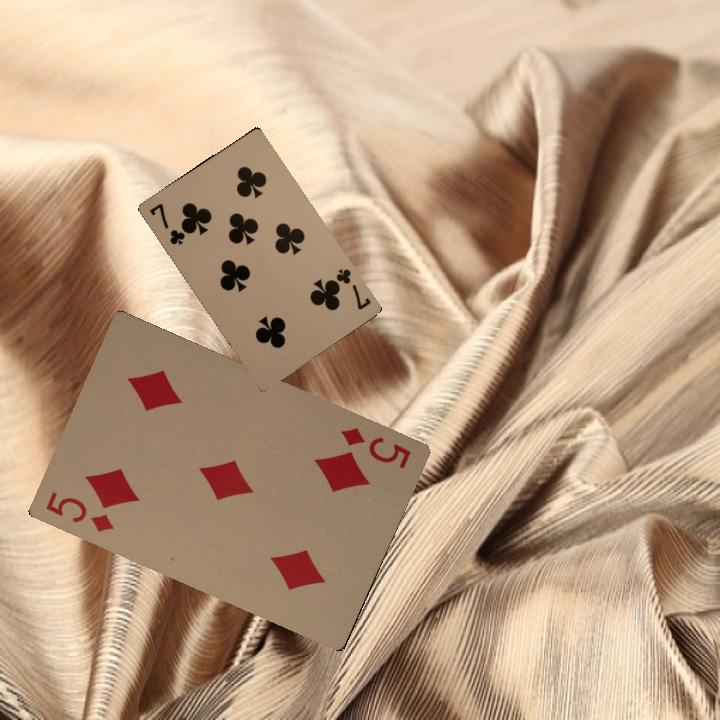5d: (337, 423, 414, 471), (41, 487, 116, 535)
7c: (327, 264, 373, 313), (145, 199, 188, 248)
